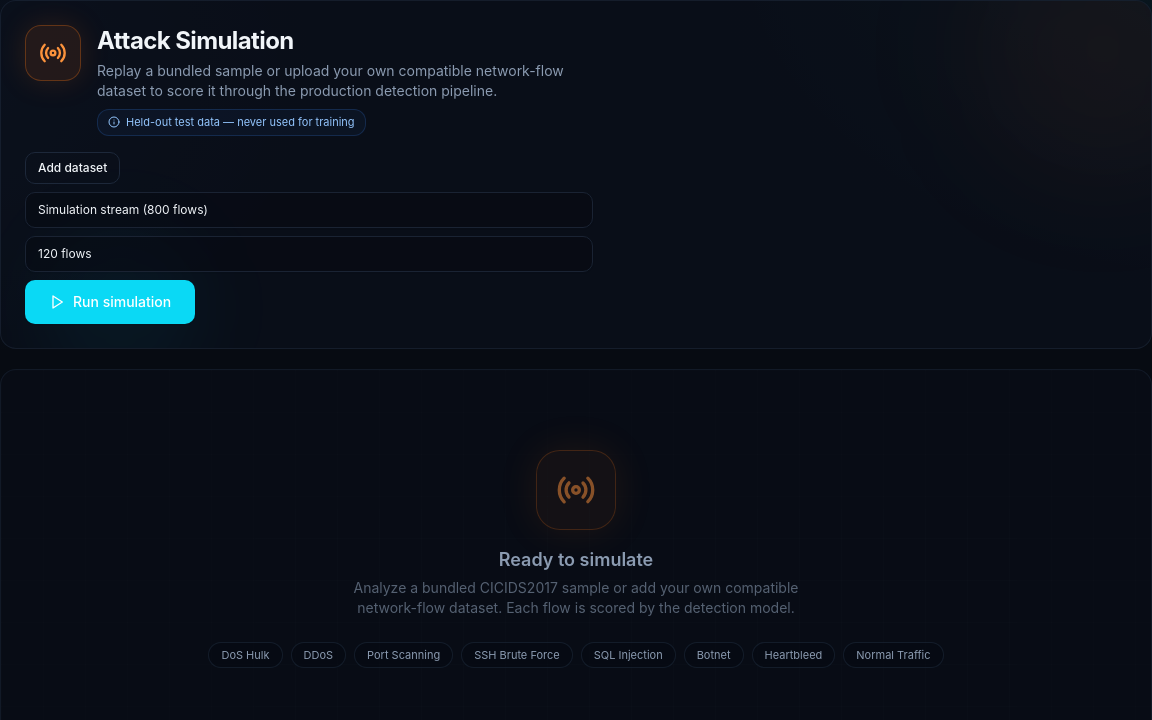
live capture block-intrusion counter › hides remove and block actions from analysts in simulation
Click the button "Run simulation": x=110, y=302 x1=25 y1=280 x2=195 y2=324
(page scrolled)
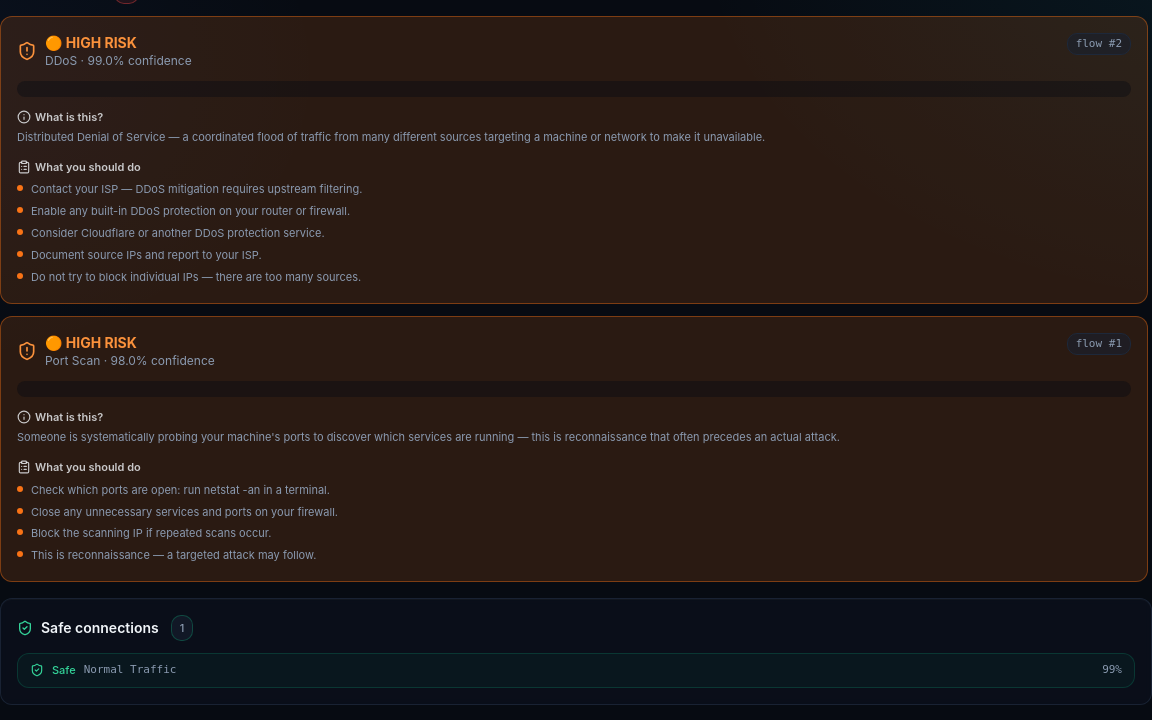
Expected: the text "Port Scan · 98.0% confidence" is shown, x1=45 y1=353 x2=215 y2=369
